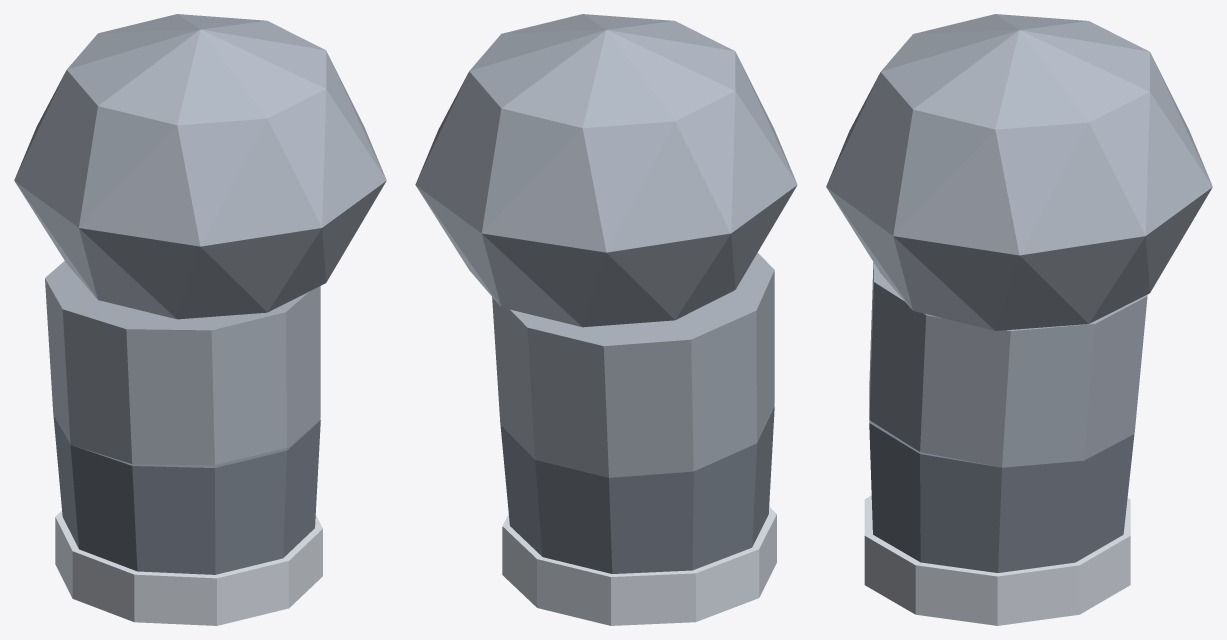
File: gear_steel_chainbody_arm_l.glb
3 views of the same model, side by side, from view 1: azimuth 30°, elevation 25°; view 2: azimuth 150°, elevation 25°; view 3: azimuth 270°, elevation 25° (orthographic). The views are drawn at different scales.
Parts seen in each view (by area): view 1: gear_steel_chainbody_arm_l; view 2: gear_steel_chainbody_arm_l; view 3: gear_steel_chainbody_arm_l.
Part boxes in pixels (left/top/right/bottom): gear_steel_chainbody_arm_l: left=14, top=14, right=386, bottom=625; gear_steel_chainbody_arm_l: left=415, top=14, right=797, bottom=625; gear_steel_chainbody_arm_l: left=826, top=14, right=1212, bottom=625.
Bounding box in the file's own units: 0.1746 × 0.277 × 0.1773.
